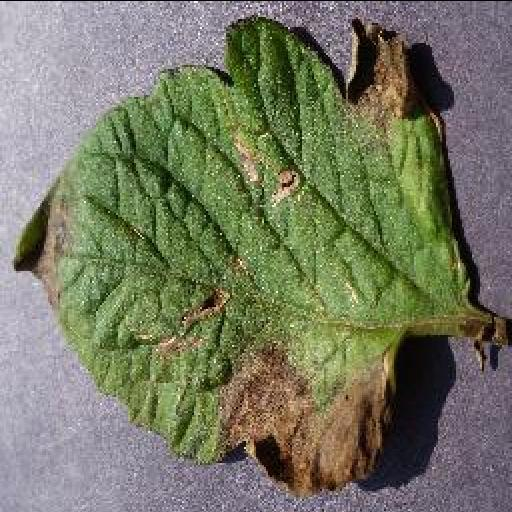disease_tomato: (14, 13, 478, 495)
